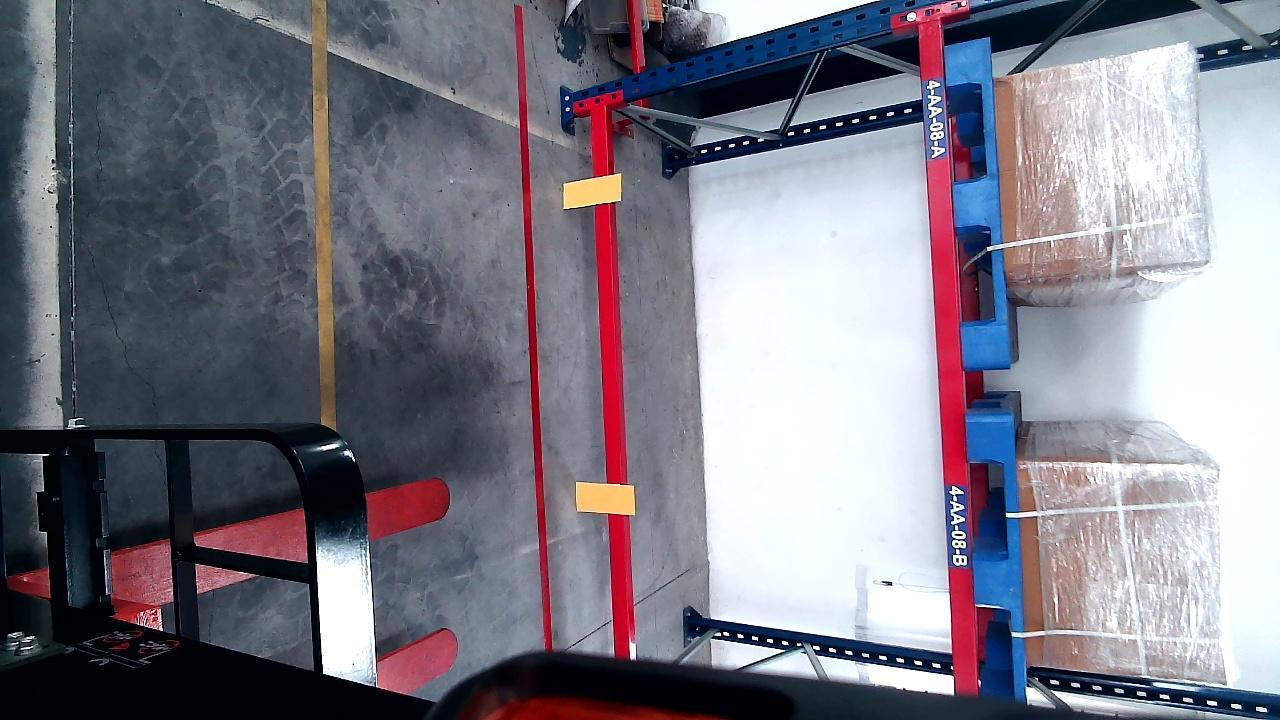h_rack: (921, 22, 976, 692), (593, 105, 639, 655)
orange_strip: (575, 481, 635, 514), (563, 174, 620, 207)
red_line: (516, 5, 558, 651)
small_pallet: (947, 41, 1006, 364), (970, 417, 1026, 687)
yellow_line: (312, 0, 336, 424)
